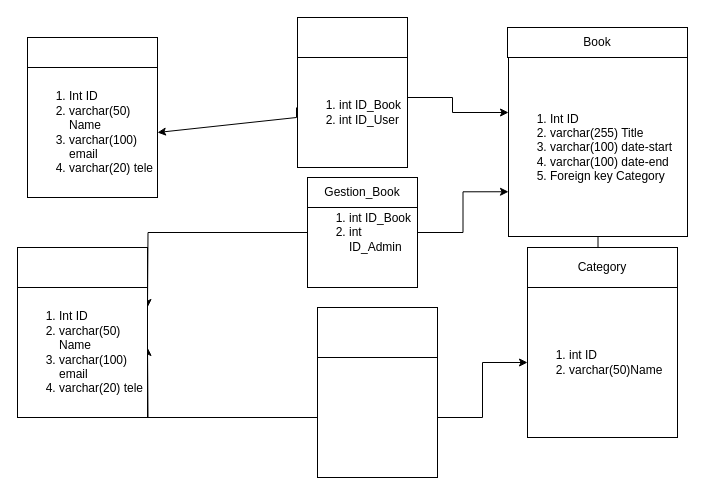
Image size: 705x495. Some labels were removed from this diagram. The box of each missing label's shape, as (x1, y1, x2, y2) in pixels:
Adnin: (16, 246, 148, 288)
Gestion_Book_User: (296, 16, 408, 58)
Gestion_Category: (316, 306, 438, 358)
int ID_Category int ID_Admin: (316, 356, 438, 478)
user: (26, 36, 158, 68)
